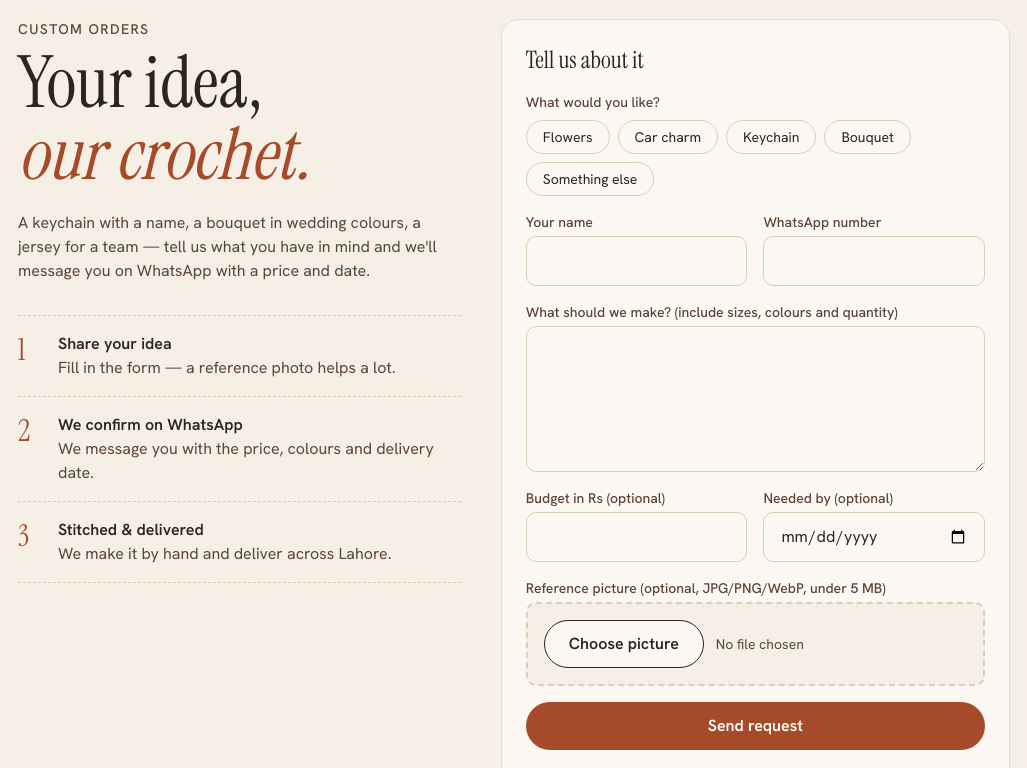
Test case: submits a request without a picture, converting the budget to paisa
In the field labelled "Your name": x=637, y=261 [526,236,747,286], type "Sara"
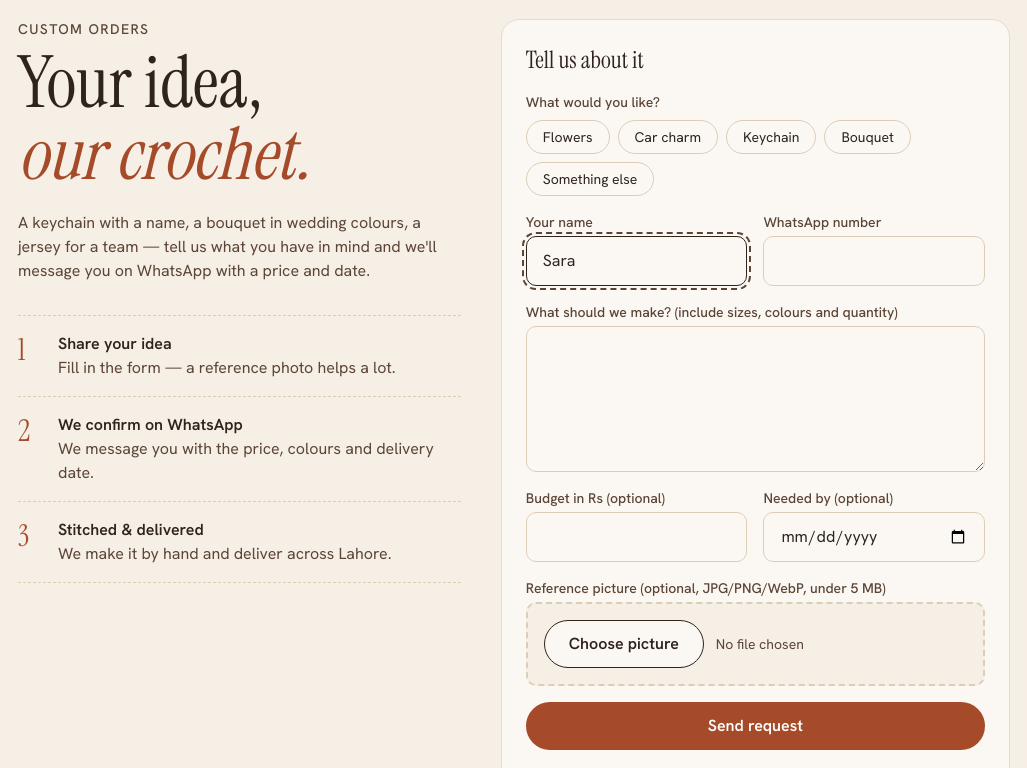
In the field labelled "WhatsApp number": x=874, y=261 [763,236,985,286], type "0300 1234567"
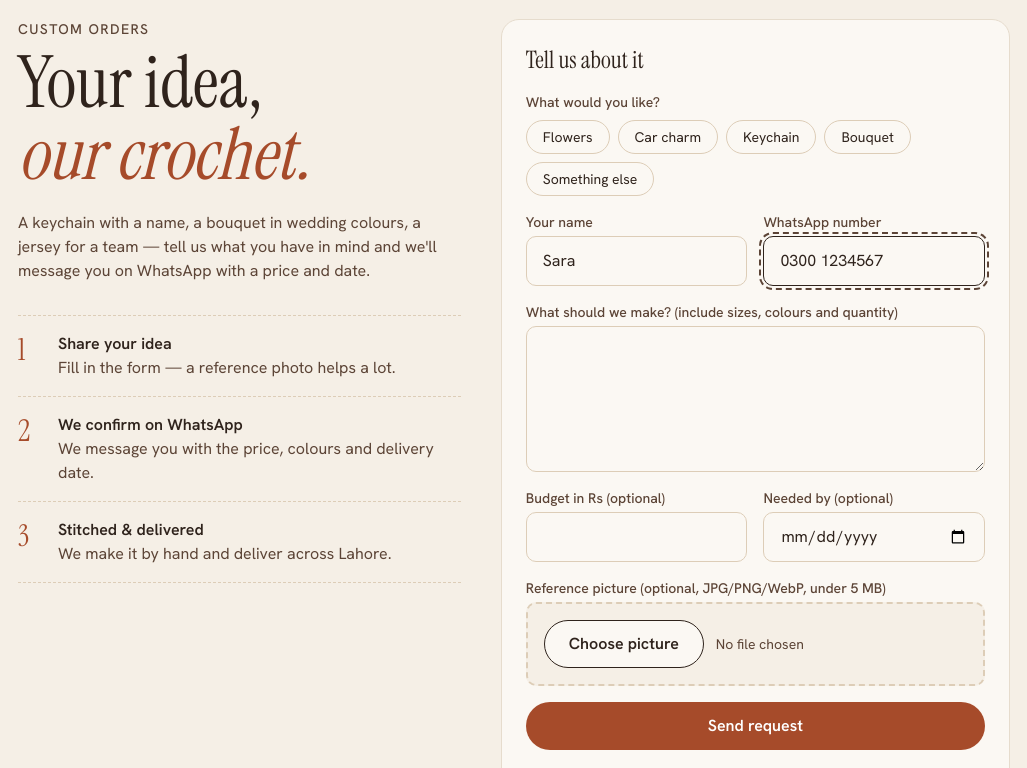
In the text box labelled "What should we make? (include sizes, colours and quantity)": x=755, y=399 [526,326,985,472], type "A jersey with a name"
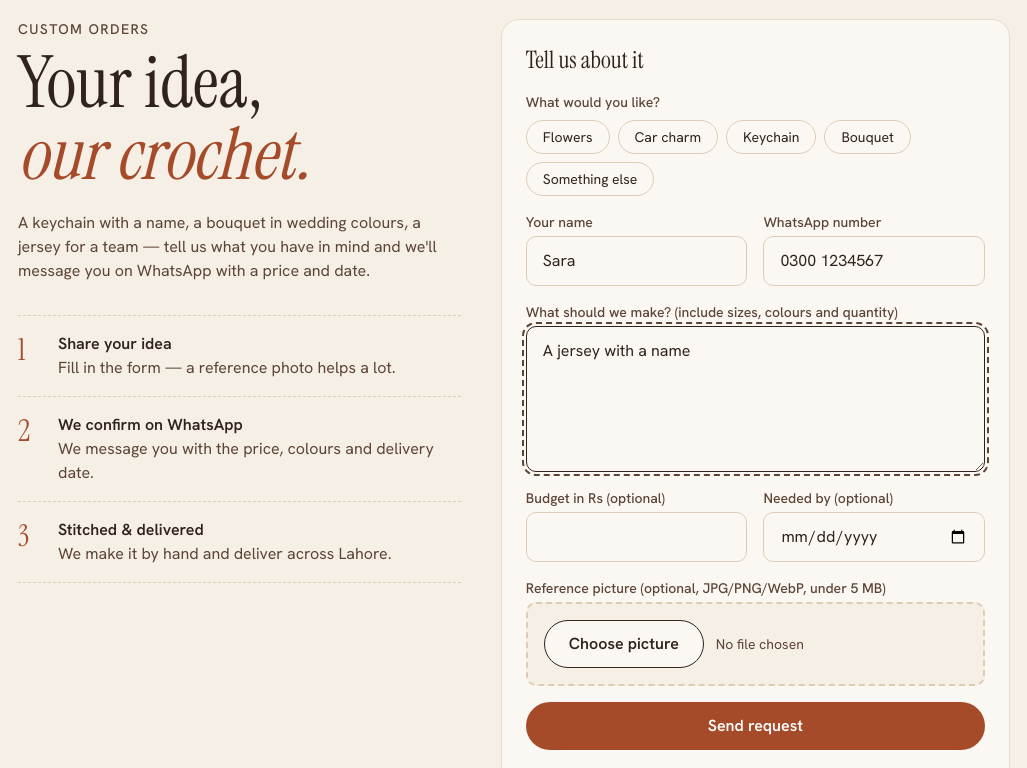
In the field labelled "Budget in Rs (optional)": x=637, y=537 [526,512,747,562], type "2500.50"
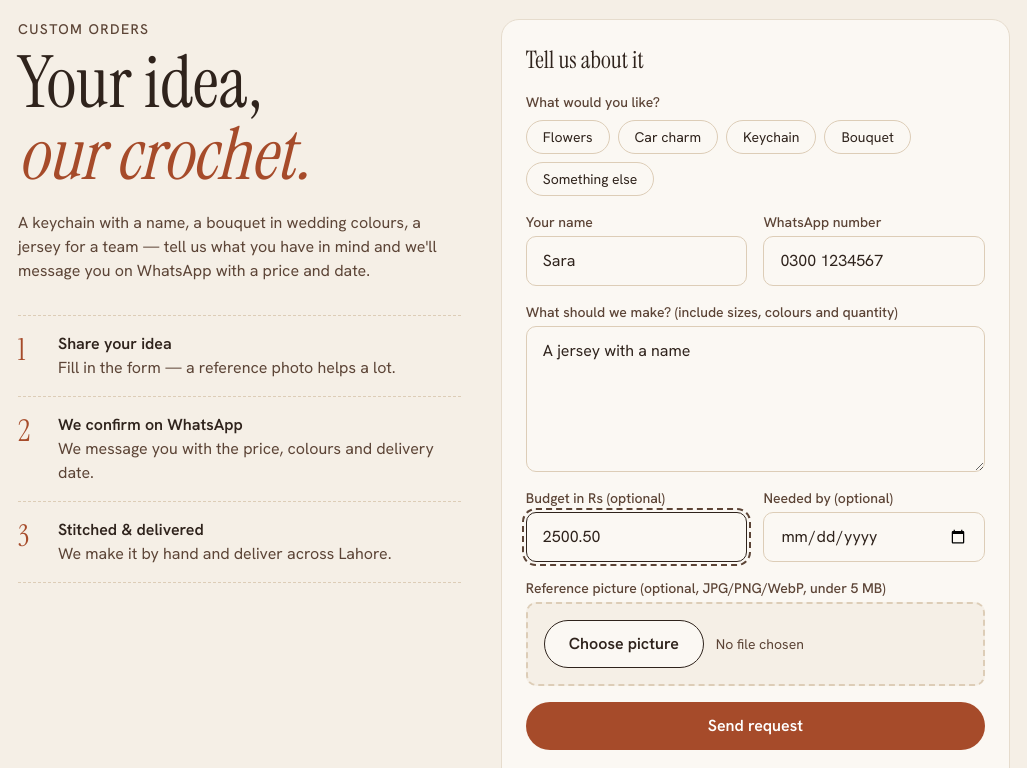
Click the button "Send request": x=755, y=726 [526,702,985,750]
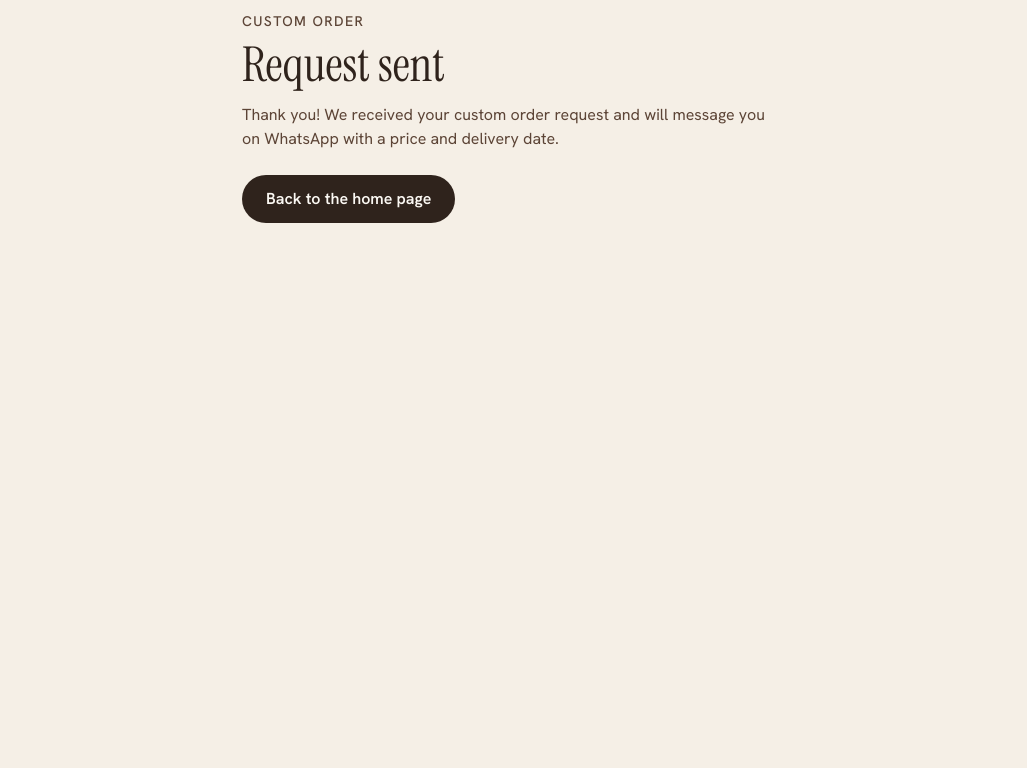
Expected: the heading "Request sent" is shown, [242,33,445,96]
